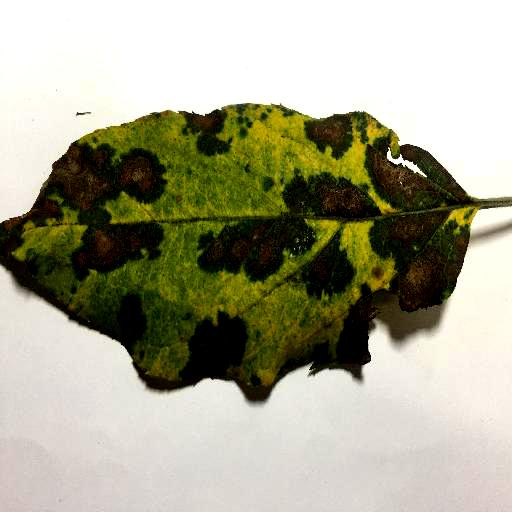Brown_Spot: (371, 217, 463, 307), (183, 222, 312, 276), (55, 151, 163, 215), (364, 144, 475, 206), (279, 172, 374, 220), (183, 320, 257, 381), (76, 224, 159, 276), (333, 308, 379, 379), (303, 116, 354, 159), (182, 109, 229, 153), (4, 223, 29, 267), (26, 197, 66, 217)
